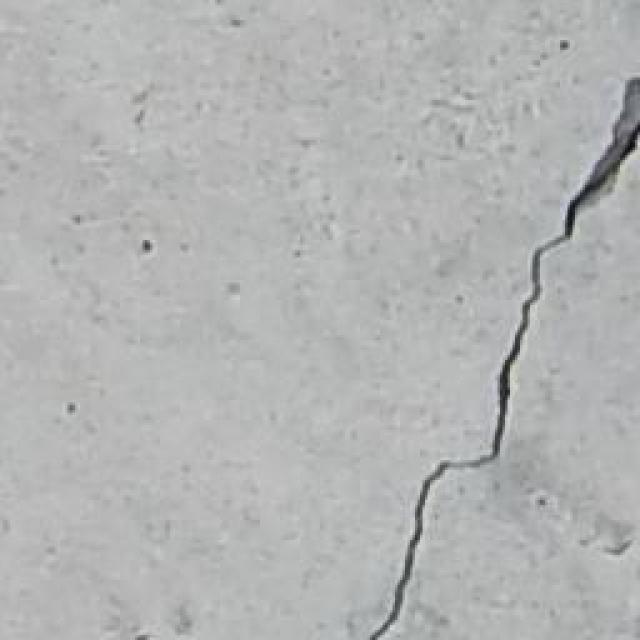concrete-crack: (368, 75, 640, 640)
